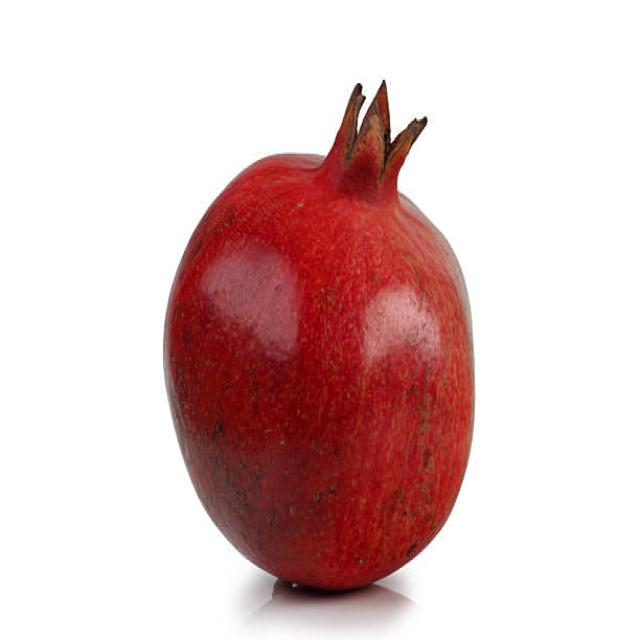Ripe: (158, 71, 480, 591)
